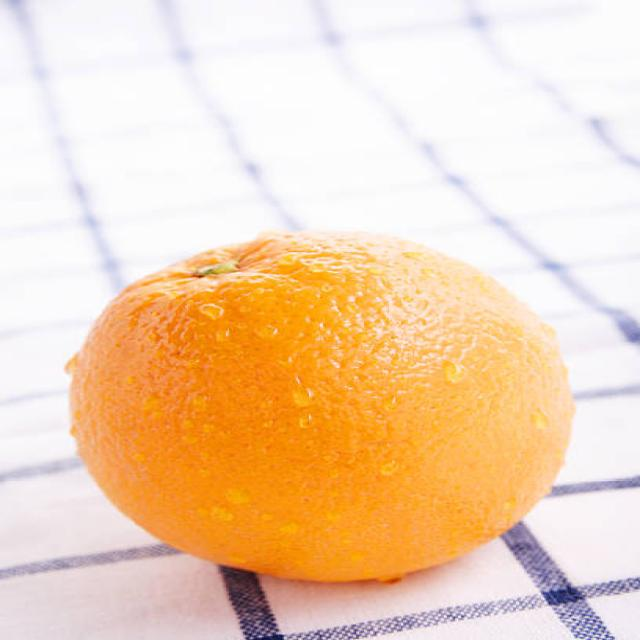Good_Orange: (64, 230, 574, 585)
